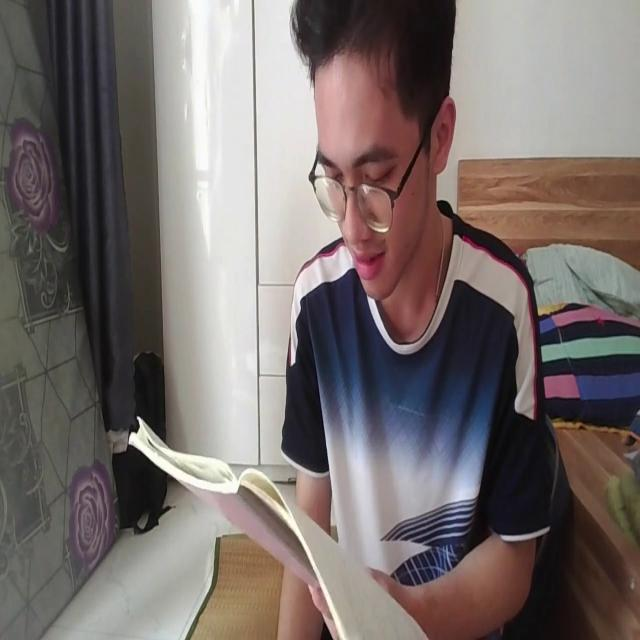book: (121, 409, 429, 640)
student: (281, 0, 551, 640)
